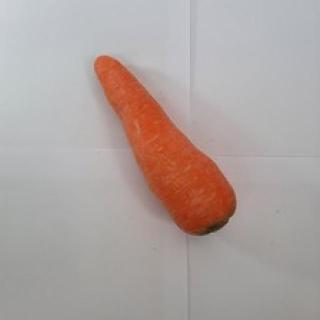carrot: (94, 54, 235, 236)
